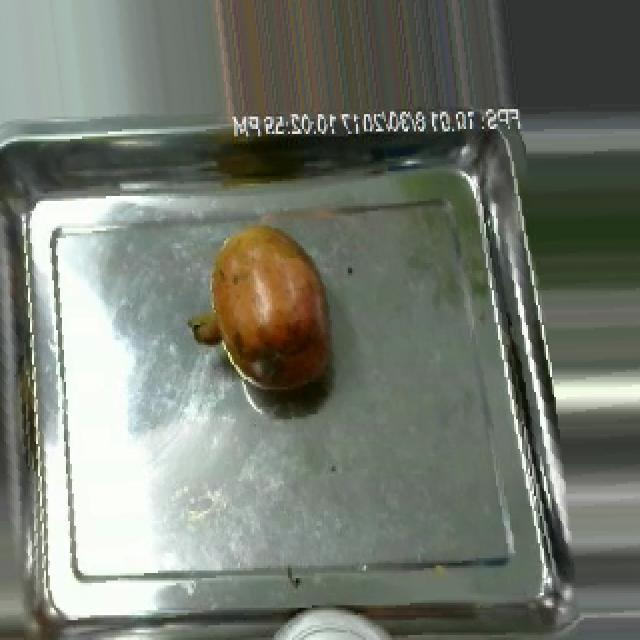fruit: (176, 208, 340, 407)
